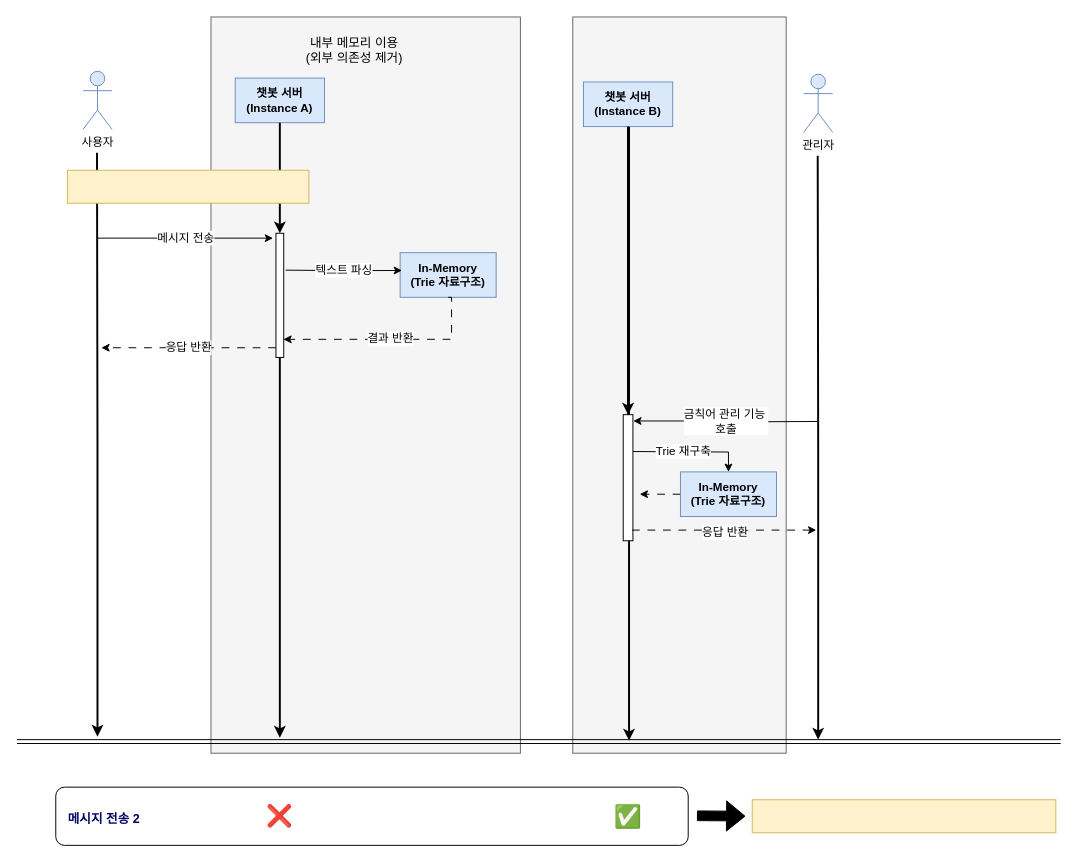
The diagram is 1078 pixels wide and 862 high, and some of its shapes have lost their labels. Each missing label, with the centre of its shape:
[새로운 문제] 다중서버 환경에서 Trie 갱신 누락 발생: [903,816]
[해결 1] 메모리 조회로 지연 시간 제거 (50ms): [187,186]
